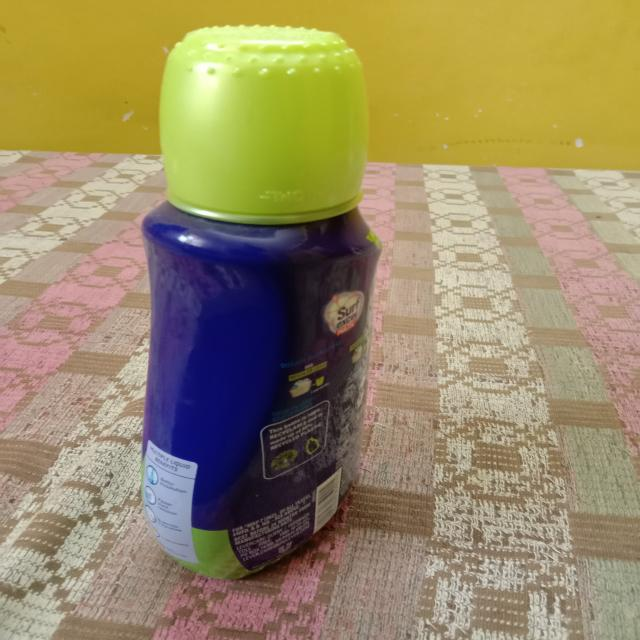detergent: (131, 14, 383, 587)
